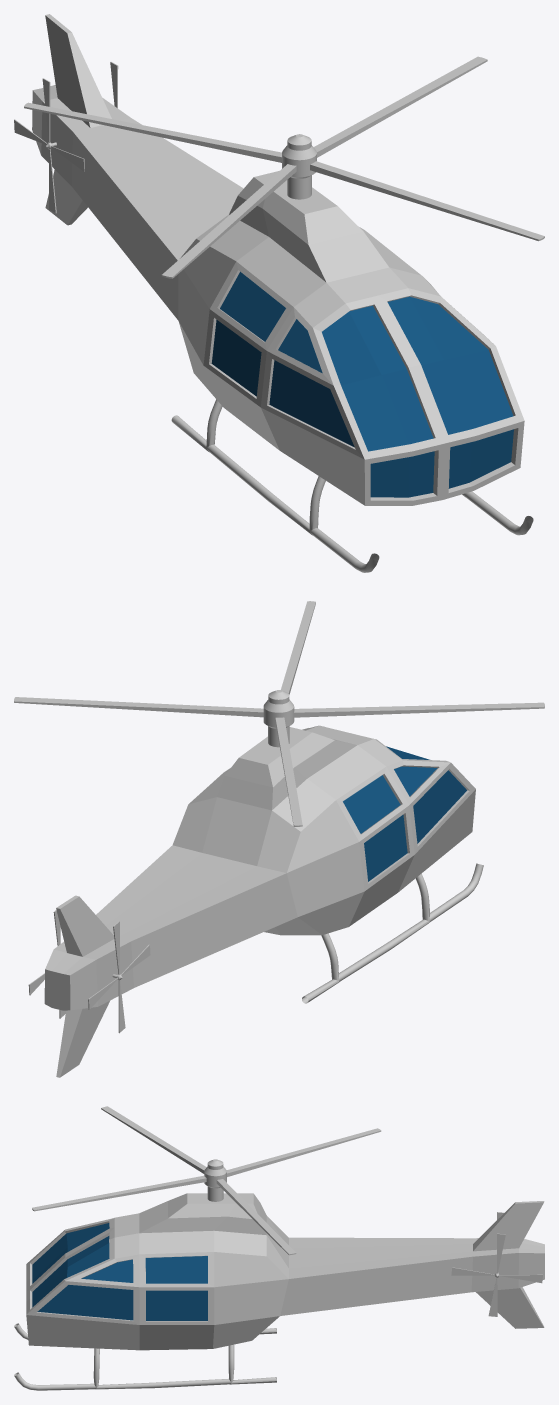
The model's file is helicopter_animation_000042.obj.
3 views of the same model, one above another, from view 1: azimuth 30°, elevation 25°; view 2: azimuth 150°, elevation 25°; view 3: azimuth 270°, elevation 25° (orthographic). The views are drawn at different scales.
Visible parts, largest first — view 1: Helicopter.007_Cylinder.008, Helicopter.001_Cylinder.001, Helicopter.004_Cylinder.005; view 2: Helicopter.007_Cylinder.008, Helicopter.001_Cylinder.001, Helicopter.004_Cylinder.005; view 3: Helicopter.007_Cylinder.008, Helicopter.001_Cylinder.001, Helicopter.003_Cylinder.004.
Part boxes in pixels (box(x1,y1,x2,y2)): Helicopter.007_Cylinder.008: box(32, 14, 533, 572); Helicopter.001_Cylinder.001: box(24, 56, 544, 278); Helicopter.004_Cylinder.005: box(14, 78, 84, 213); Helicopter.007_Cylinder.008: box(44, 725, 483, 1077); Helicopter.001_Cylinder.001: box(14, 601, 544, 826); Helicopter.004_Cylinder.005: box(88, 921, 150, 1033); Helicopter.007_Cylinder.008: box(14, 1193, 544, 1390); Helicopter.001_Cylinder.001: box(32, 1106, 381, 1255); Helicopter.003_Cylinder.004: box(451, 1233, 542, 1316).
Bounding box in the file's own units: 4.94 × 3.2 × 7.49.
